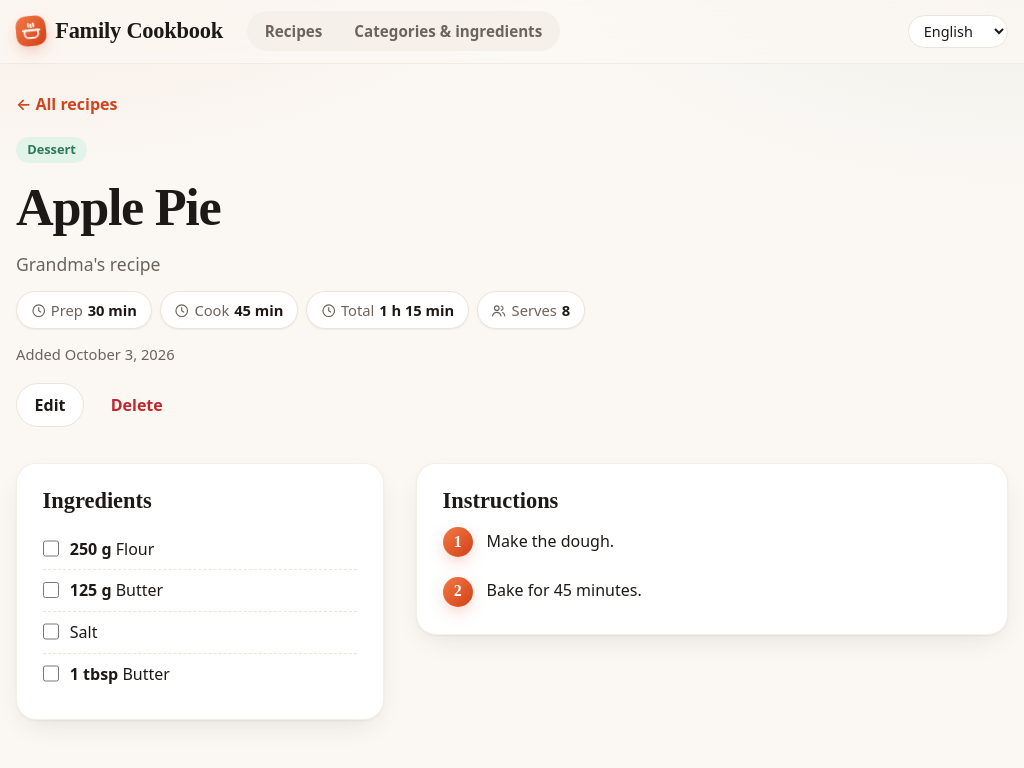
Test: RecipeDetailPage › cancels a delete without sending anything
Expected: the heading "Apple Pie" is shown, [16,178,220,236]
Click the button "Delete". click: (137, 405)
box: [92,383,181,428]
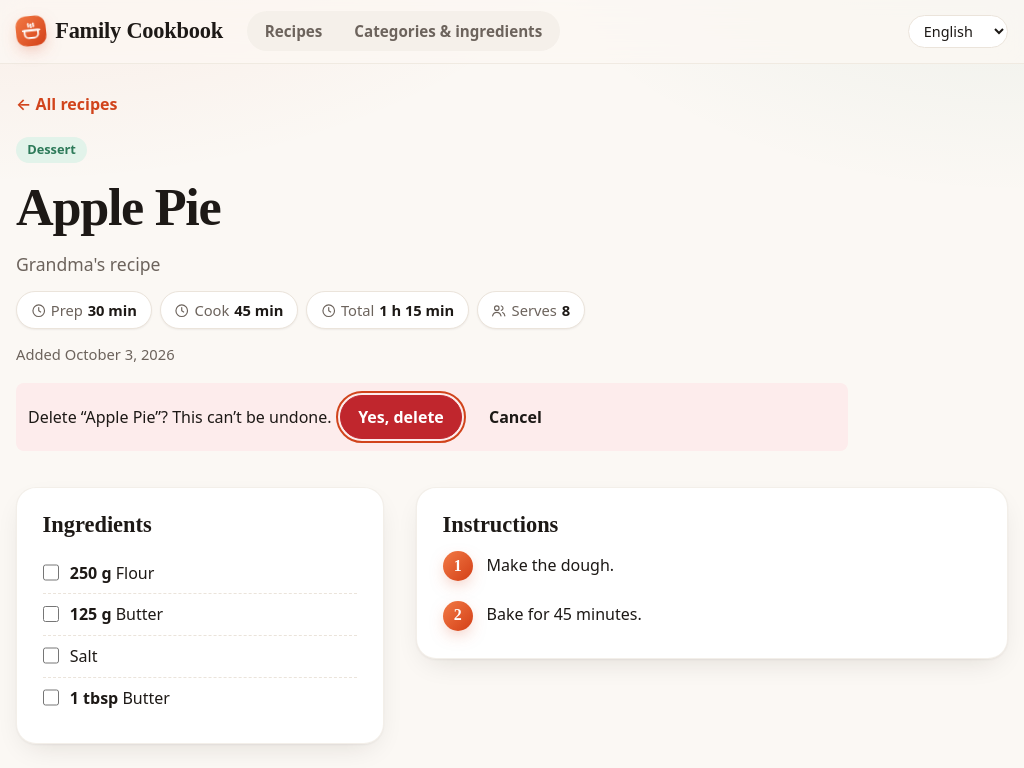
Click the button "Cancel". click: (515, 417)
box: [470,395,560,440]
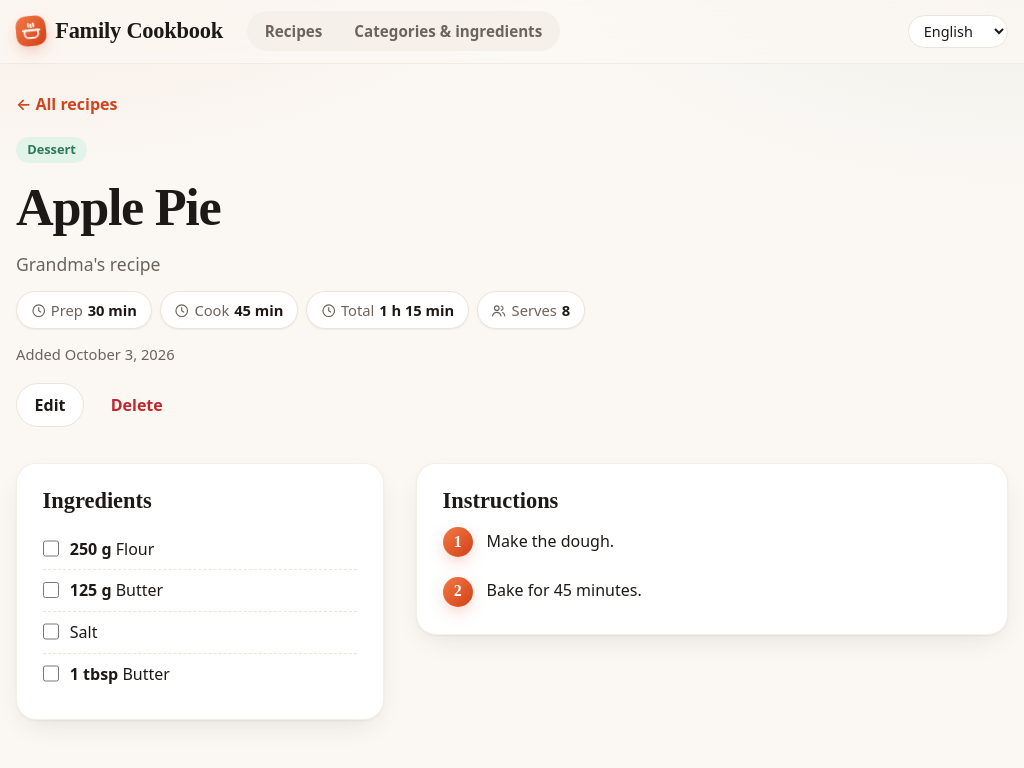
Expected: the link "Edit" is shown, [16,383,84,428]
